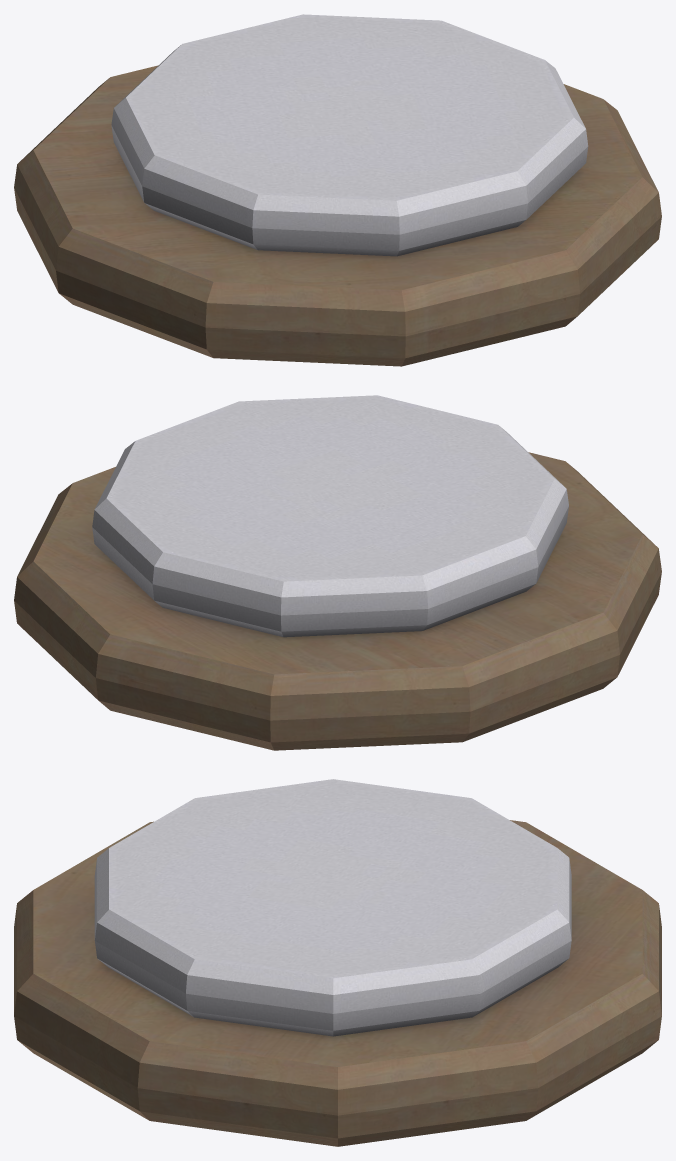
Rendered from frl_apartment_plate_02.glb.
3 views of the same model, one above another, from view 1: azimuth 30°, elevation 25°; view 2: azimuth 150°, elevation 25°; view 3: azimuth 270°, elevation 25° (orthographic). The views are drawn at different scales.
Parts seen in each view (by area): view 1: frl_apartment_plate_02; view 2: frl_apartment_plate_02; view 3: frl_apartment_plate_02.
Part boxes in pixels (bbox=[...]): frl_apartment_plate_02: bbox=[14, 14, 661, 366]; frl_apartment_plate_02: bbox=[14, 395, 661, 750]; frl_apartment_plate_02: bbox=[14, 779, 661, 1146].
Bounding box in the file's own units: 0.3797 × 0.0846 × 0.3611.
Materials: 1 (1 with a texture image).
